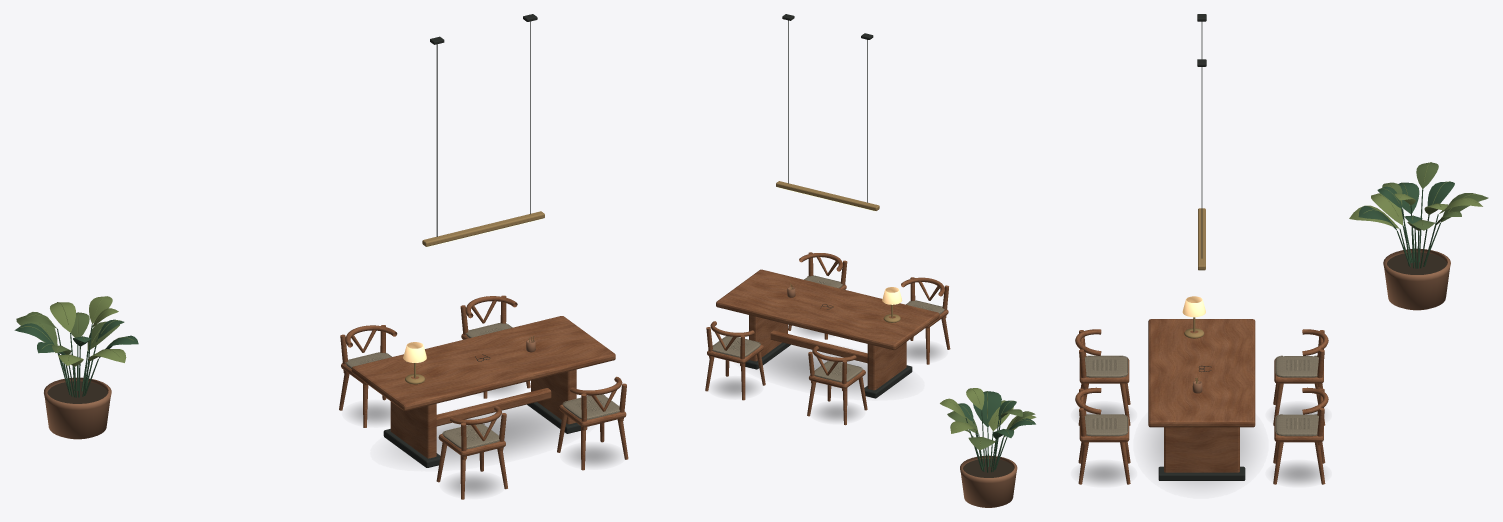
Rendered from library.glb.
3 views of the same model, side by side, from view 1: azimuth 30°, elevation 25°; view 2: azimuth 150°, elevation 25°; view 3: azimuth 270°, elevation 25° (orthographic). The views are drawn at different scales.
Parts seen in each view (by area): view 1: library | M03 | Oiled American walnut, library | Soft contact occlusion, library | Stacked ceramic clay, library | M08 | Undyed flatweave, library | M08 | Leaf 0, library | M08 | Leaf 2, library | M06 | Powder-coated steel, library | M08 | Leaf 1, library | Patinated brass, library | Planter soil; view 2: library | M03 | Oiled American walnut, library | Soft contact occlusion, library | Stacked ceramic clay, library | M08 | Leaf 0, library | M08 | Undyed flatweave, library | M06 | Powder-coated steel, library | M08 | Leaf 2, library | Patinated brass, library | M08 | Leaf 1, library | Planter soil; view 3: library | M03 | Oiled American walnut, library | M08 | Undyed flatweave, library | Stacked ceramic clay, library | Soft contact occlusion, library | M08 | Leaf 0, library | M06 | Powder-coated steel, library | M08 | Leaf 2, library | M08 | Leaf 1, library | Planter soil, library | Patinated brass.
Boxes of the visible parts, x1,y1,x2,y2 form: library | M03 | Oiled American walnut: [339, 295, 628, 499]; library | Soft contact occlusion: [351, 384, 616, 494]; library | Stacked ceramic clay: [44, 339, 535, 439]; library | M08 | Undyed flatweave: [345, 322, 620, 449]; library | M08 | Leaf 0: [14, 319, 138, 397]; library | M08 | Leaf 2: [20, 296, 133, 366]; library | M06 | Powder-coated steel: [383, 14, 580, 467]; library | M08 | Leaf 1: [16, 312, 119, 354]; library | Patinated brass: [405, 211, 544, 384]; library | Planter soil: [47, 381, 107, 403]; library | M03 | Oiled American walnut: [705, 252, 950, 425]; library | Soft contact occlusion: [715, 327, 939, 420]; library | Stacked ceramic clay: [787, 287, 1017, 507]; library | M08 | Leaf 0: [958, 391, 1035, 472]; library | M08 | Undyed flatweave: [712, 275, 944, 382]; library | M06 | Powder-coated steel: [745, 14, 912, 398]; library | M08 | Leaf 2: [940, 388, 1036, 445]; library | Patinated brass: [776, 181, 900, 322]; library | M08 | Leaf 1: [947, 409, 1035, 450]; library | Planter soil: [963, 458, 1014, 477]; library | M03 | Oiled American walnut: [1075, 319, 1328, 484]; library | M08 | Undyed flatweave: [1084, 355, 1318, 436]; library | Stacked ceramic clay: [1192, 248, 1450, 393]; library | Soft contact occlusion: [1083, 405, 1319, 483]; library | M08 | Leaf 0: [1358, 181, 1454, 268]; library | M06 | Powder-coated steel: [1158, 14, 1245, 480]; library | M08 | Leaf 2: [1349, 162, 1482, 228]; library | M08 | Leaf 1: [1382, 162, 1488, 230]; library | Planter soil: [1387, 252, 1447, 274]; library | Patinated brass: [1184, 208, 1205, 383].
Bounding box in the file's own units: 5.07 × 4.15 × 3.92.
Materials: 12 (3 with a texture image).
